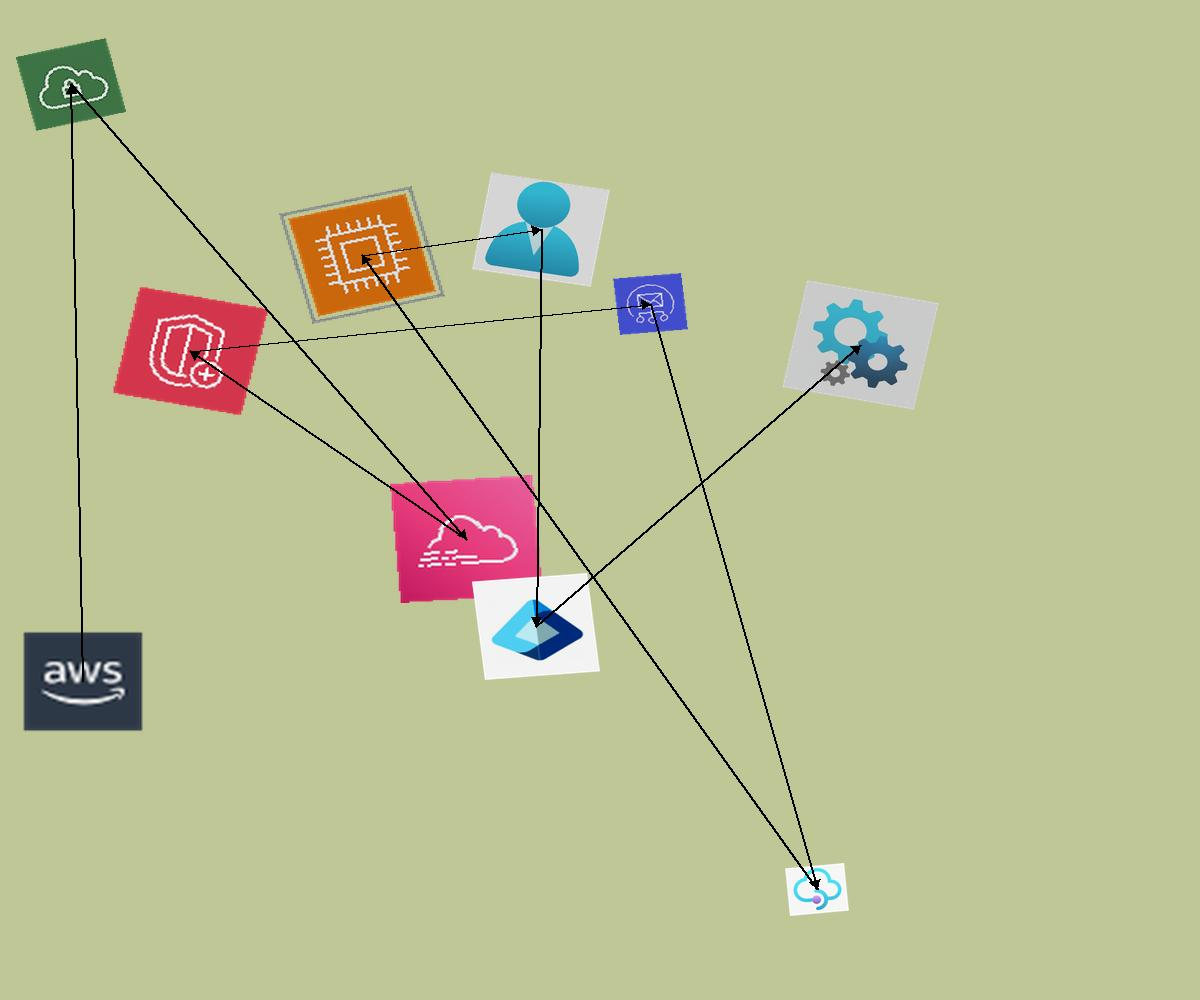AWS-Category_Compute: (279, 186, 445, 324)
AWS-Cloud-logo: (21, 630, 145, 733)
AWS-CloudTrail: (390, 475, 543, 603)
AWS-Private_vpc: (15, 38, 127, 131)
AWS-Shield: (112, 286, 269, 416)
AWS-Simple-Email-Service: (613, 273, 688, 335)
Azure_api: (782, 280, 939, 410)
Azure_api_gateway: (785, 863, 849, 916)
Azure_microsoft_entra: (472, 573, 600, 680)
Azure_users: (472, 172, 610, 287)
